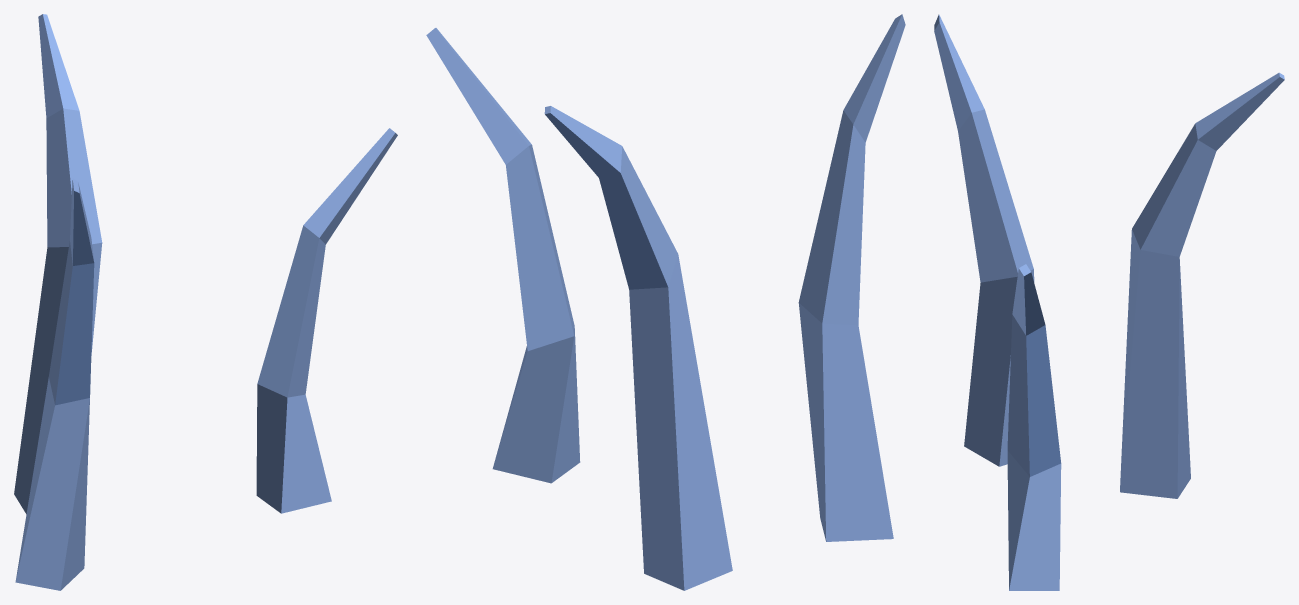
The model's file is GrassWinter2.fbx.
The picture shows the model from 3 angles, left to right: view 1: azimuth 30°, elevation 25°; view 2: azimuth 150°, elevation 25°; view 3: azimuth 270°, elevation 25°; orthographic projection. The views are drawn at different scales.
Visible parts, largest first — view 1: GrassWinter2; view 2: GrassWinter2; view 3: GrassWinter2.
Boxes of the visible parts, x1,y1,x2,y2 form: GrassWinter2: [14, 14, 397, 590]; GrassWinter2: [426, 14, 905, 590]; GrassWinter2: [934, 14, 1284, 590].
Bounding box in the file's own units: 0.3561 × 0.3746 × 0.2695.
